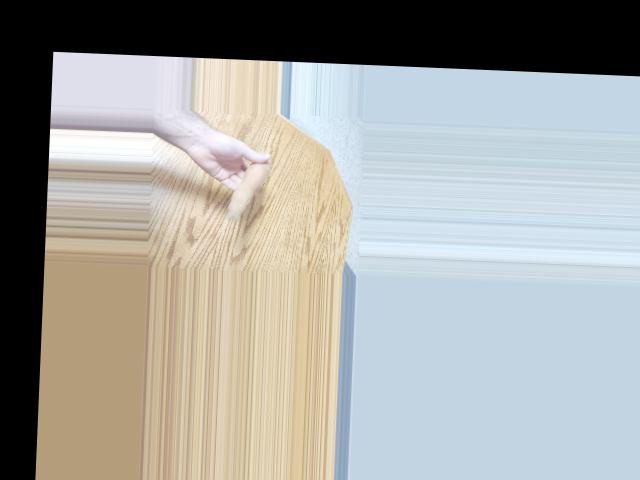sweet_potato: (220, 148, 273, 224)
